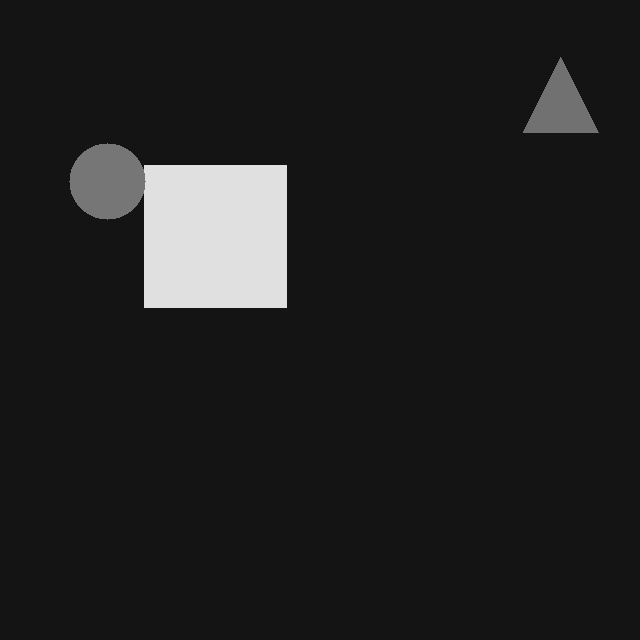circle: (69, 143, 145, 219)
square: (144, 165, 286, 307)
triangle: (523, 57, 598, 132)
